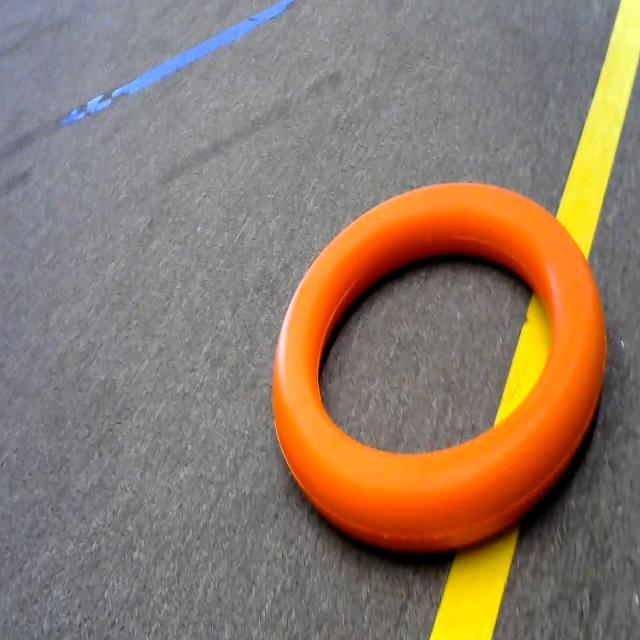note: (262, 175, 612, 552)
